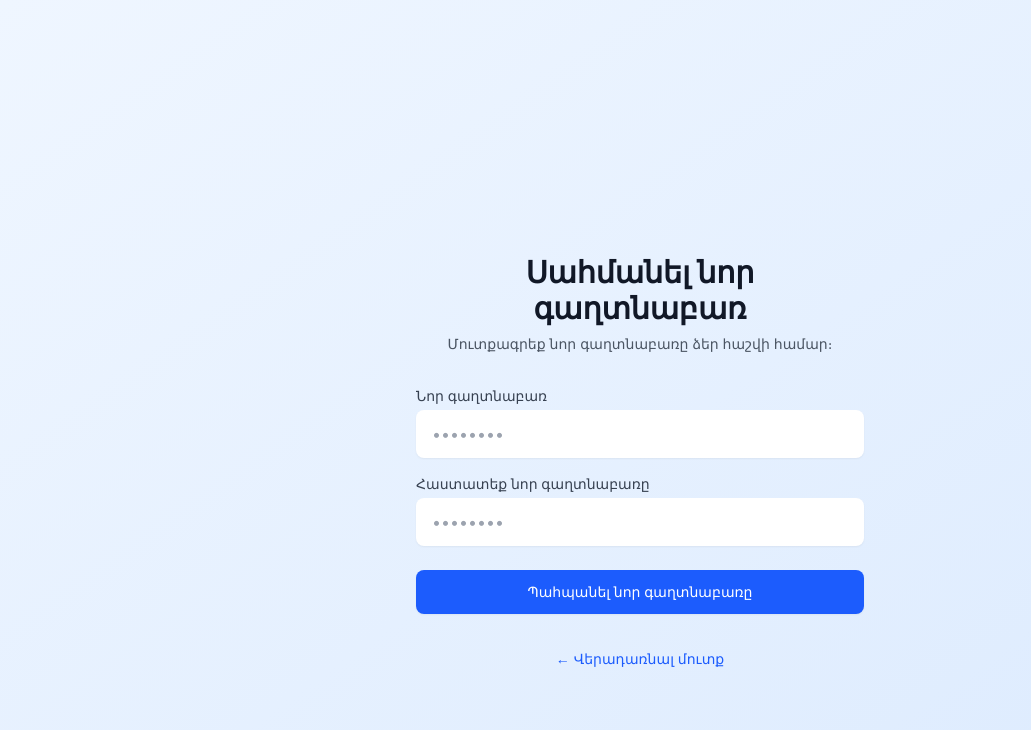
Test: ResetPasswordPage › blocks submit when passwords do not match
Step 1. Type "newpassword123" into the password field labelled "Նոր գաղտնաբառ" → (640, 434), box [416, 410, 864, 458]
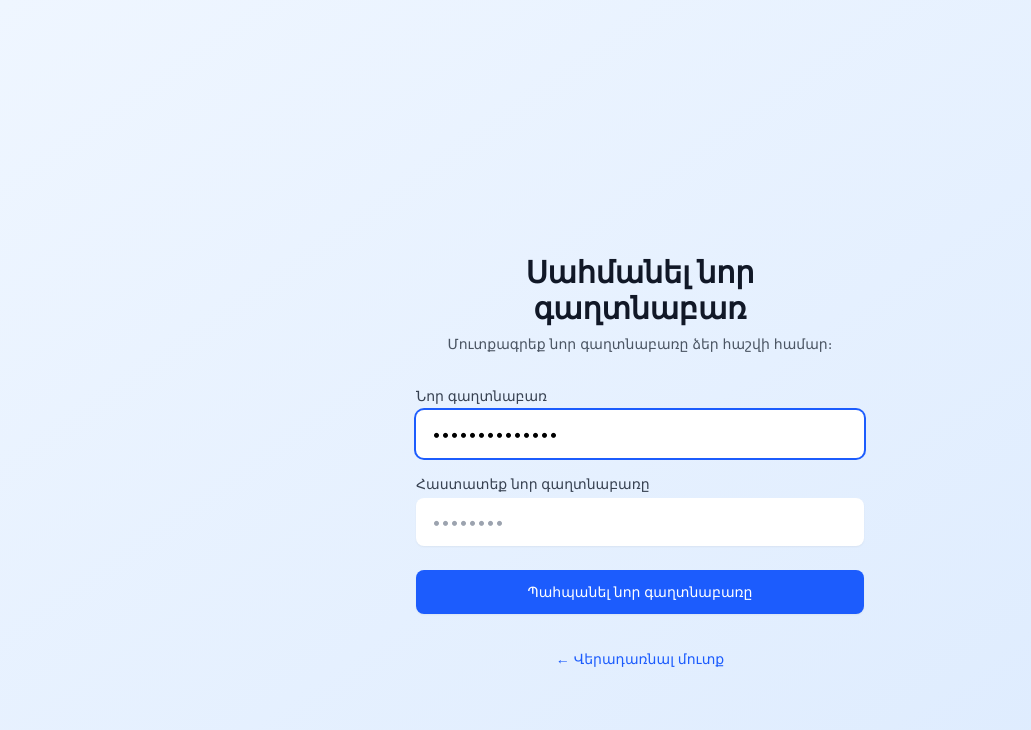
Step 2. Type "newpassword321" into the password field labelled "Հաստատեք նոր գաղտնաբառը" → (640, 522), box [416, 498, 864, 546]
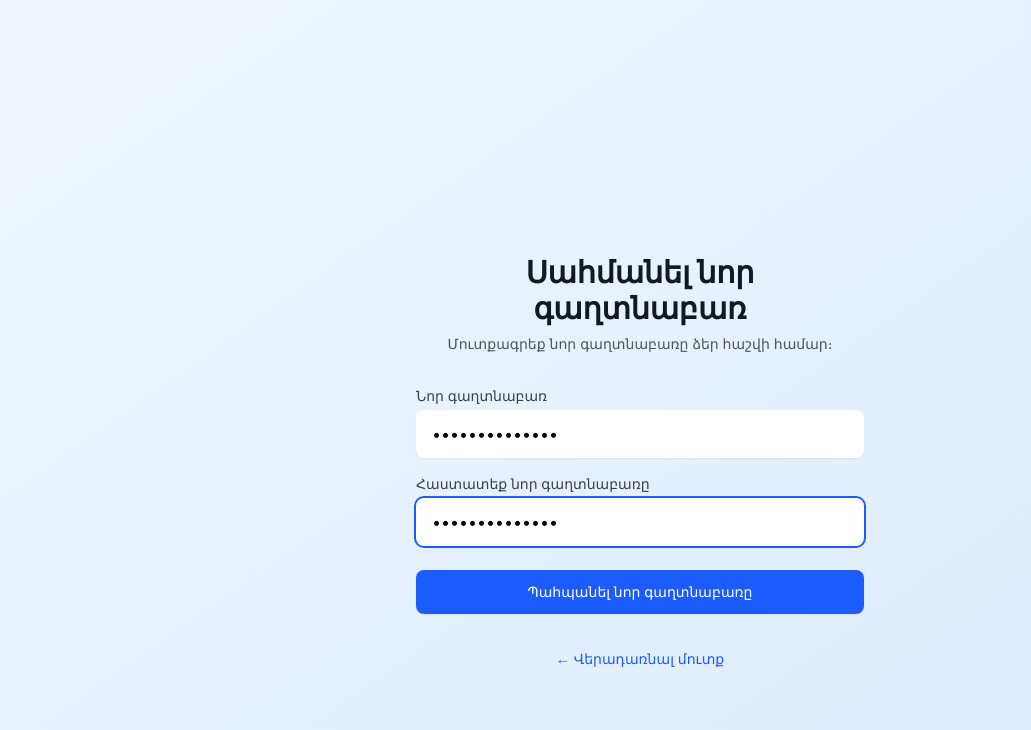
Step 3. Click the button "Պահպանել նոր գաղտնաբառը" → (640, 592), box [416, 570, 864, 614]
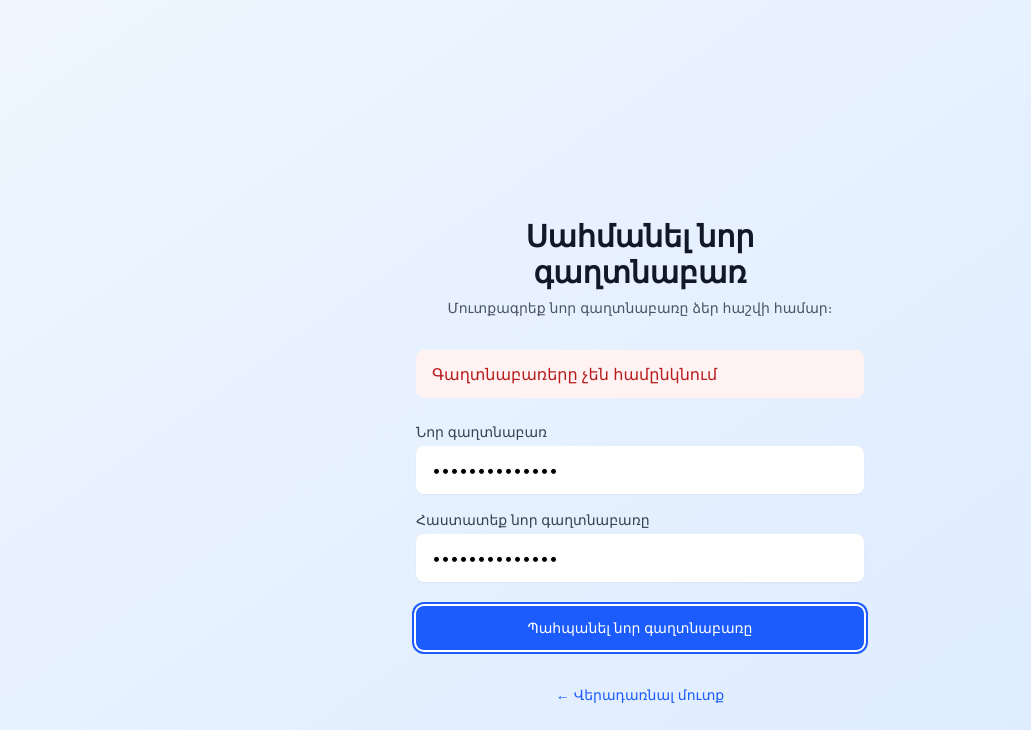
Result: the text "Գաղտնաբառերը չեն համընկնում" is shown at [416, 350, 864, 398]
